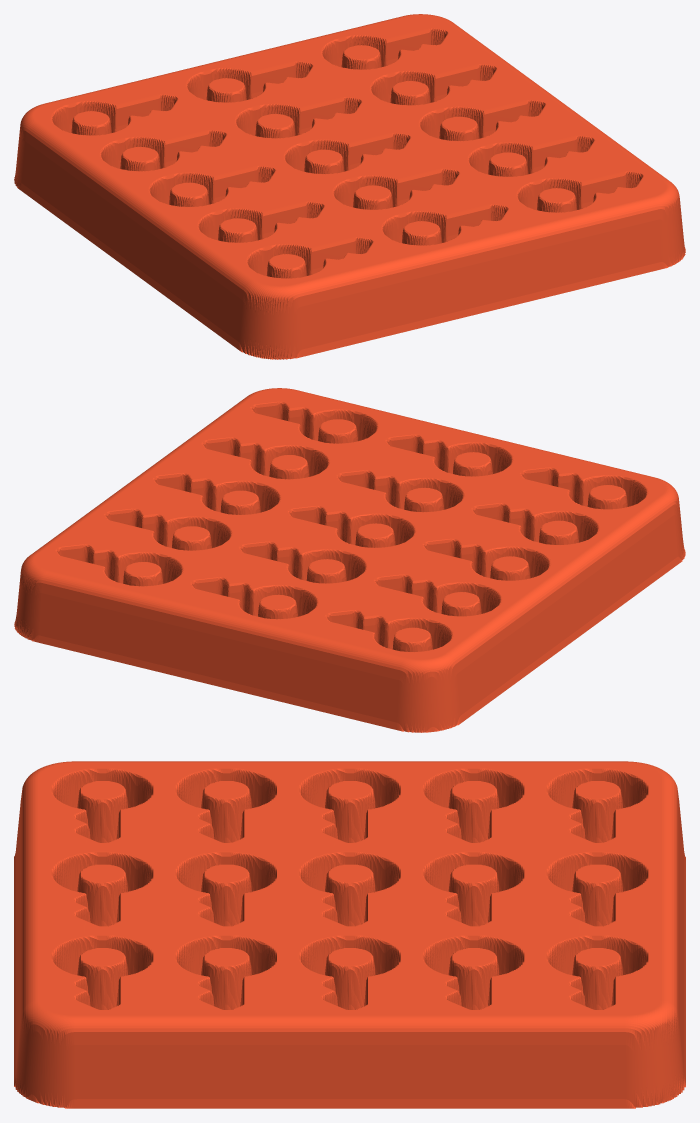
The model's file is mold.glb.
3 views of the same model, one above another, from view 1: azimuth 30°, elevation 25°; view 2: azimuth 150°, elevation 25°; view 3: azimuth 270°, elevation 25° (orthographic). The views are drawn at different scales.
Visible parts, largest first — view 1: geometry_0; view 2: geometry_0; view 3: geometry_0.
Boxes of the visible parts, <box> form: geometry_0: <box>14,14,685,359</box>; geometry_0: <box>14,388,685,732</box>; geometry_0: <box>14,761,685,1108</box>.
Bounding box in the file's own units: 0.0966 × 0.0136 × 0.1005.
